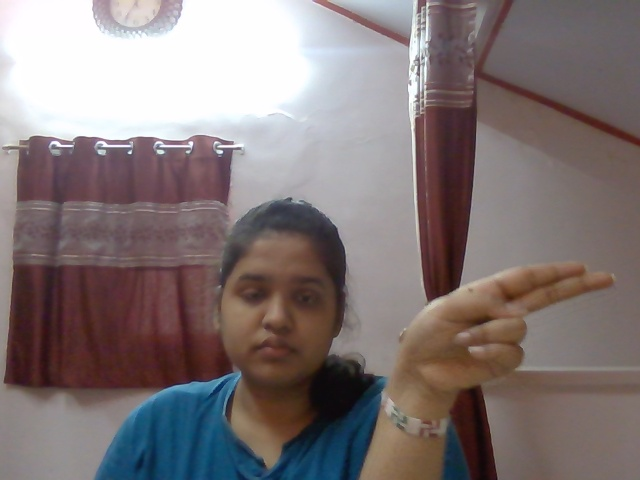h: (397, 248, 638, 389)
